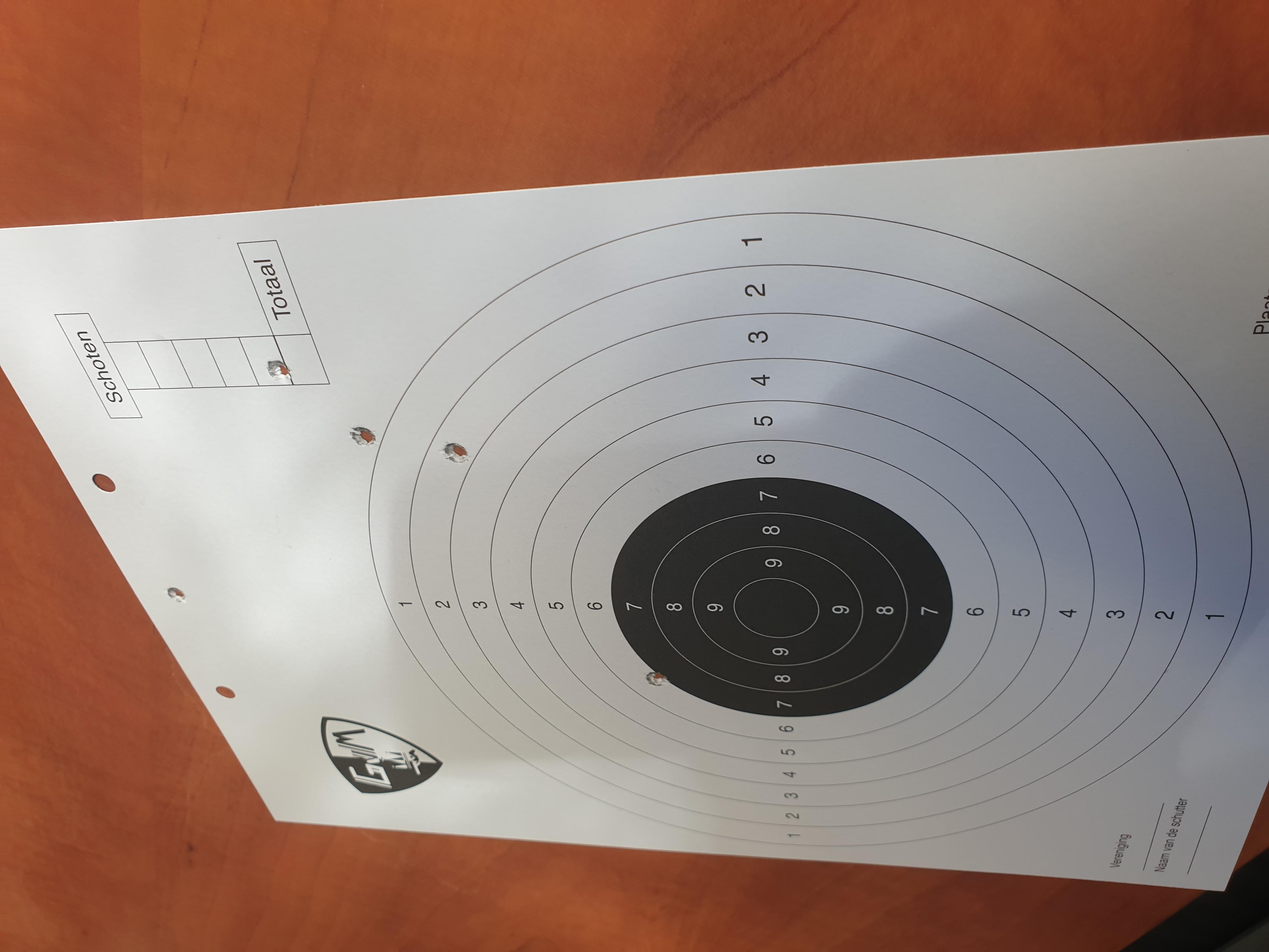hole: (798, 485, 830, 513), (892, 503, 921, 527), (977, 570, 1004, 593), (599, 263, 624, 282), (1082, 347, 1104, 367)
